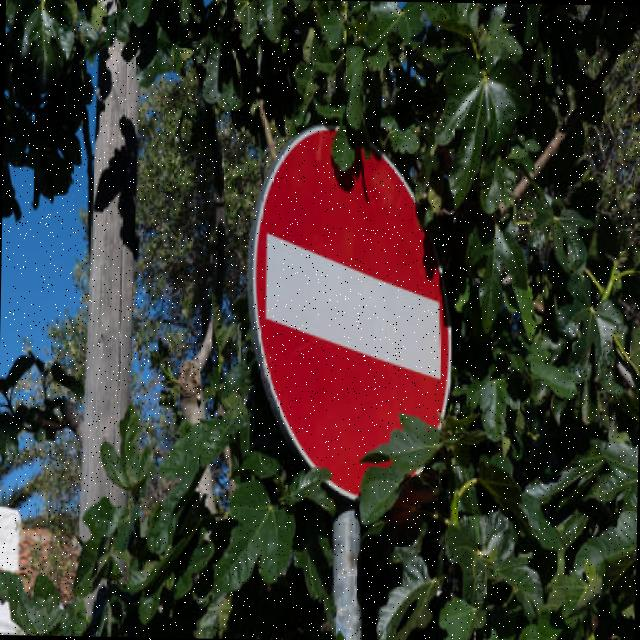do_not_enter: (232, 111, 470, 504)
